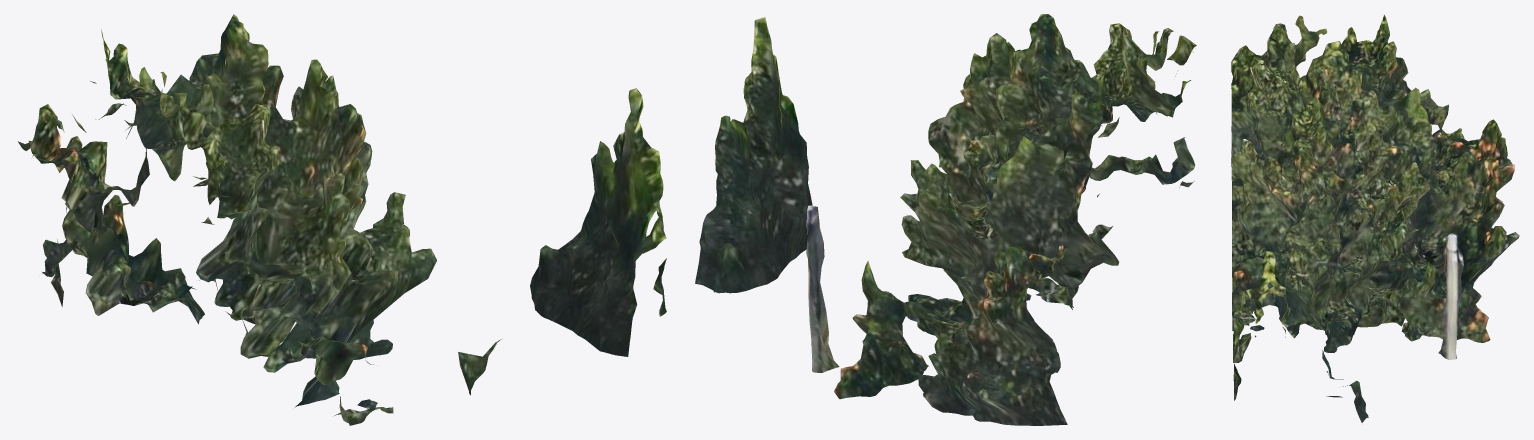
Rendered from Tile_+006_+007_L22_0002130.glb.
3 views of the same model, side by side, from view 1: azimuth 30°, elevation 25°; view 2: azimuth 150°, elevation 25°; view 3: azimuth 270°, elevation 25° (orthographic). The views are drawn at different scales.
Parts seen in each view (by area): view 1: rtc; view 2: rtc; view 3: rtc.
Part boxes in pixels (<box>): rtc: <box>18,14,666,425</box>; rtc: <box>695,14,1196,425</box>; rtc: <box>1231,14,1519,422</box>.
Size of the model in its own units: 8.86 by 6.73 by 6.74.
Materials: 1 (1 with a texture image).
